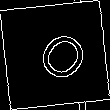O_SW: (22, 22, 88, 88)
